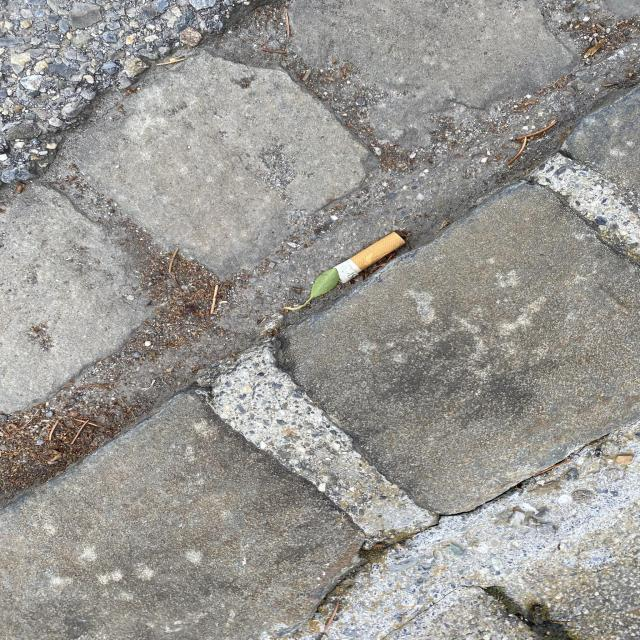other waste: (332, 230, 406, 284)
